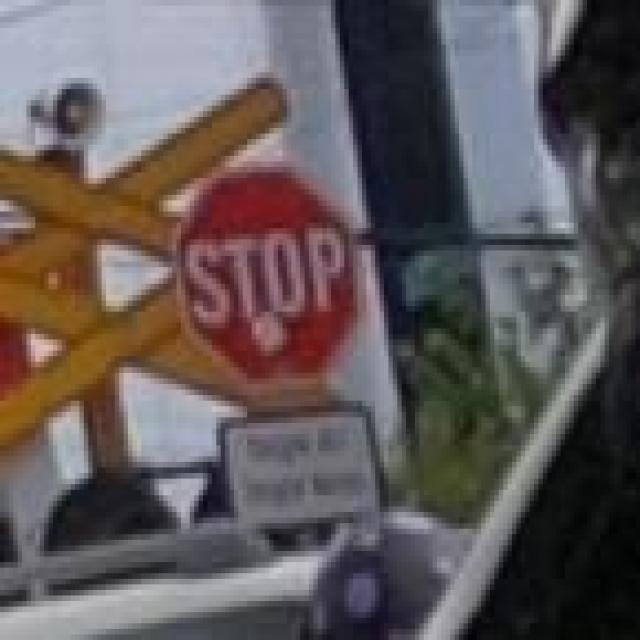traffic sign: (177, 167, 371, 395)
